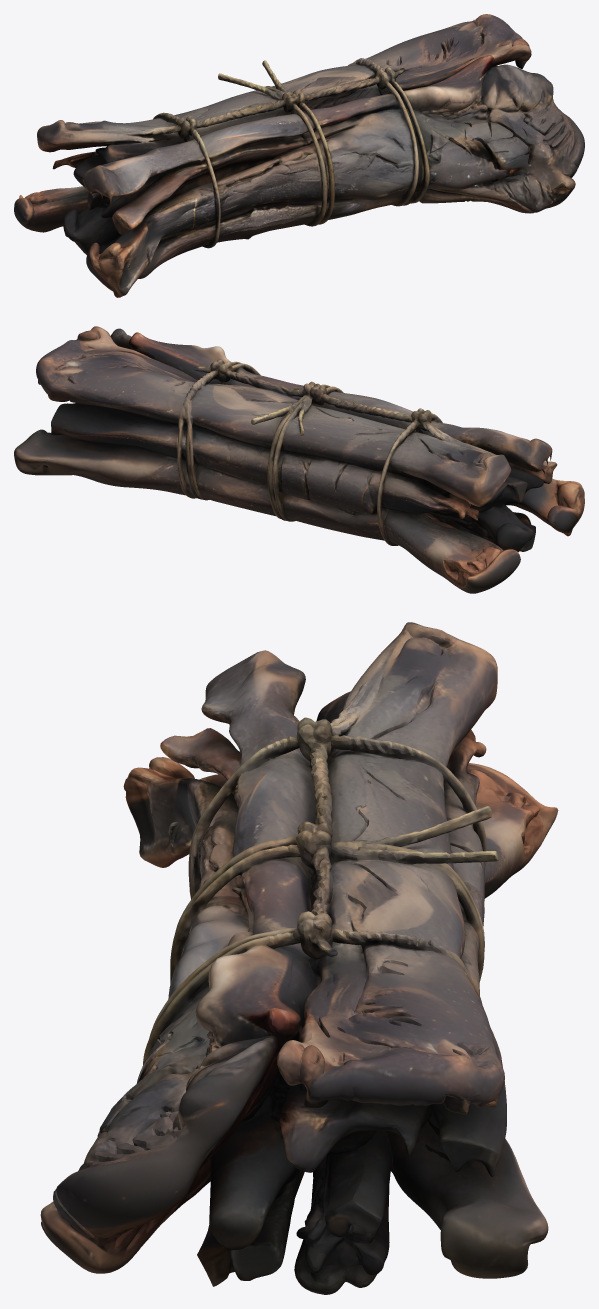
The model's file is Quipu_Mensaje.glb.
The picture shows the model from 3 angles, top to bottom: view 1: azimuth 30°, elevation 25°; view 2: azimuth 150°, elevation 25°; view 3: azimuth 270°, elevation 25°; orthographic projection. The views are drawn at different scales.
Parts seen in each view (by area): view 1: charqui_carne_seca; view 2: charqui_carne_seca; view 3: charqui_carne_seca.
Boxes of the visible parts, left/top/right/bottom form: charqui_carne_seca: left=14, top=14, right=584, bottom=297; charqui_carne_seca: left=14, top=326, right=584, bottom=593; charqui_carne_seca: left=40, top=622, right=558, bottom=1294.
Size of the model in its own units: 1.8 by 0.4671 by 0.8314.
1 material, 1 textured.
